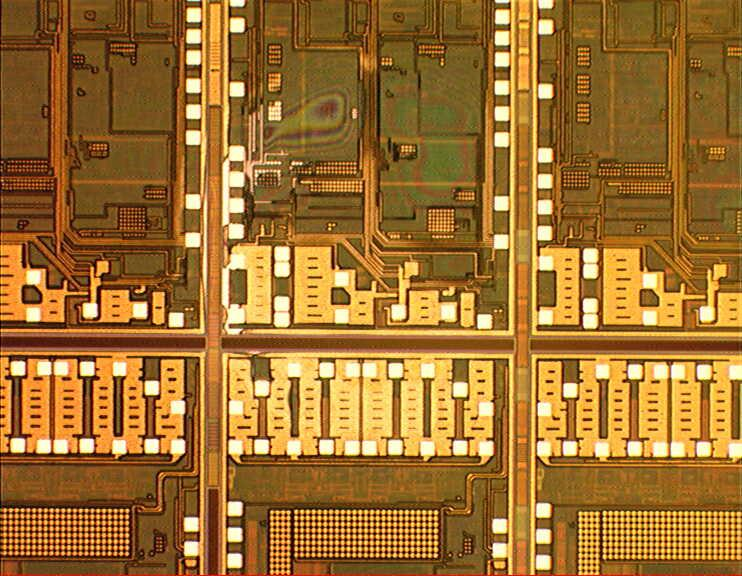COATING BAD: (223, 56, 487, 253)
